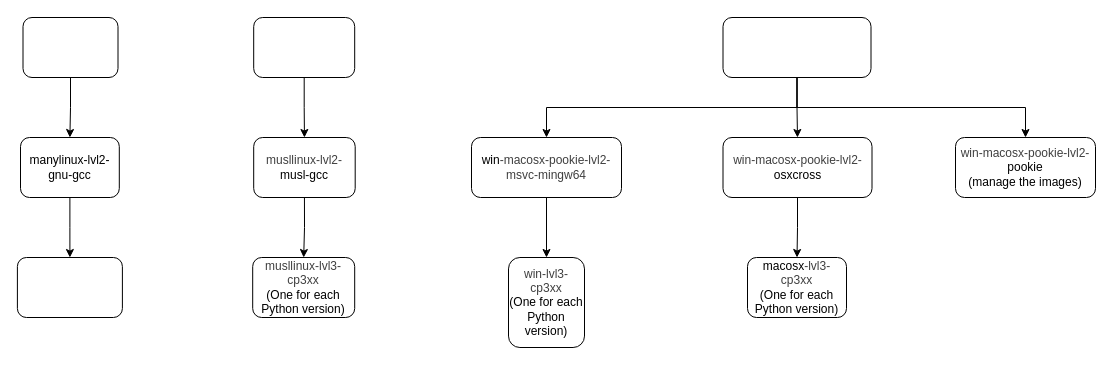
Some shapes in this 1114 by 365 pixel diagram are drawn without their labels. The centre of each missing label's shape, as x and y in pixels:
manylinux- lvl3 - cp3xx (One for each Python version): [69,287]
manylinux-lvl1-base (ubuntu:18.04): [70,47]
musllinux-lvl1-base (alpine:3.14): [304,47]
win-macosx-pookie-lvl1-base (ubuntu:24.04): [796,47]
